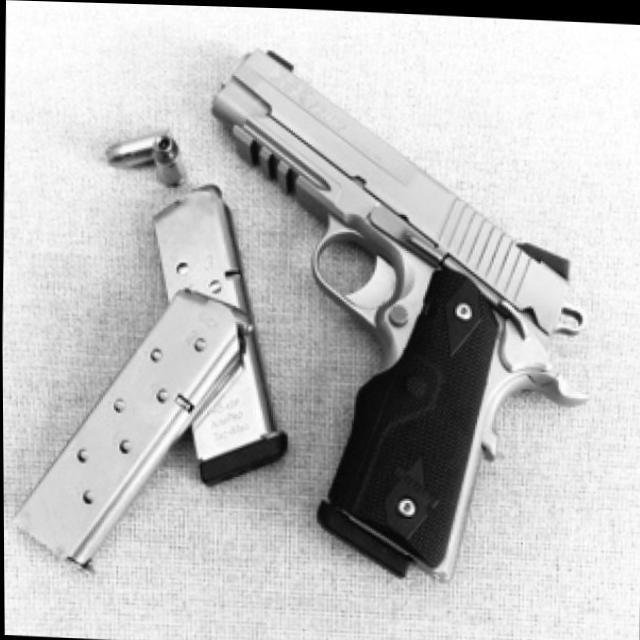weapon: (202, 41, 594, 584), (6, 119, 290, 579)
